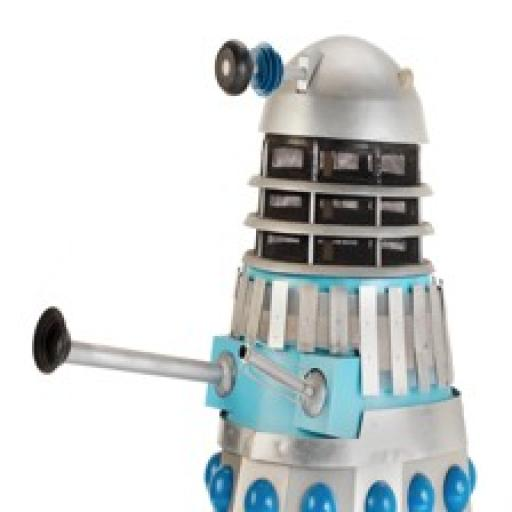dalek: (25, 28, 490, 512)
